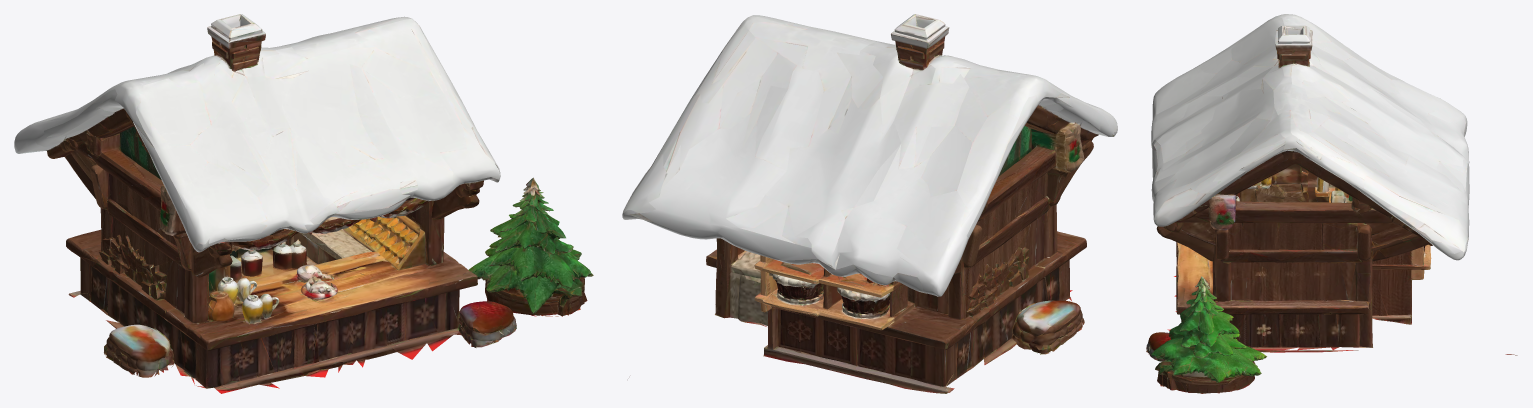
The model's file is market_stall.glb.
3 renders of one model, left to right at view 1: azimuth 30°, elevation 25°; view 2: azimuth 150°, elevation 25°; view 3: azimuth 270°, elevation 25°, orthographic. The views are drawn at different scales.
Bounding box in the file's own units: 1.62 × 1.1 × 1.43.
1 material, 1 textured.
